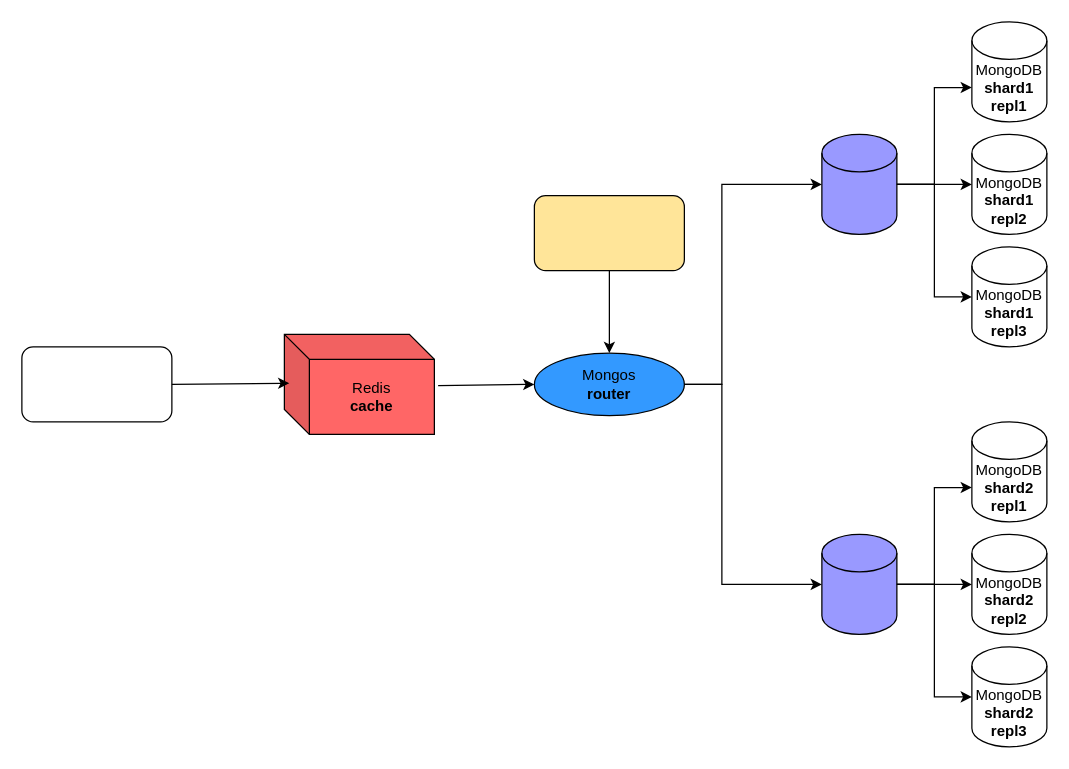
This 1069x769 diagram has some shape labels left out. The centre of each missing label's shape, as x and y in pixels:
Config Server(s): the point at 608,232
MongoDB shard1: the point at 859,183
MongoDB shard2: the point at 859,583
pymongo-api: the point at 96,384
